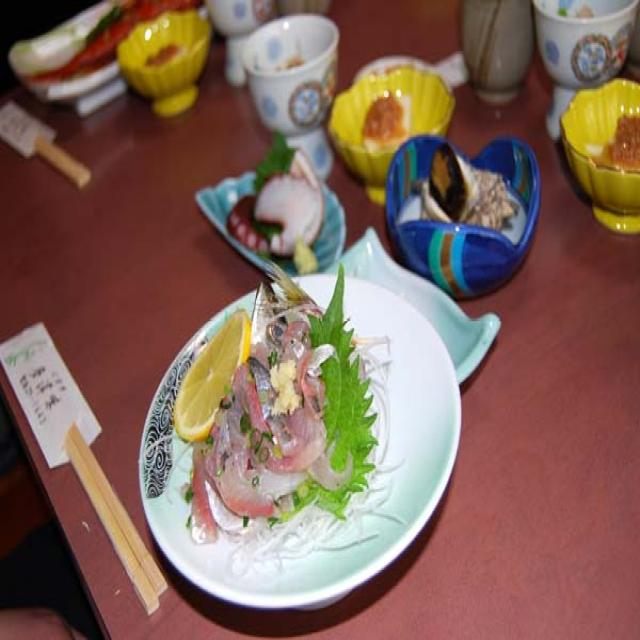熟制海鲜: (161, 250, 388, 554)
